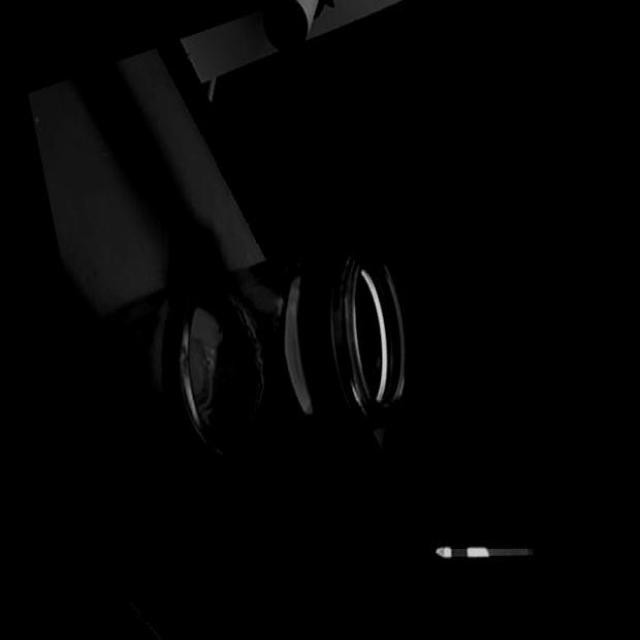glass: (155, 211, 428, 495)
